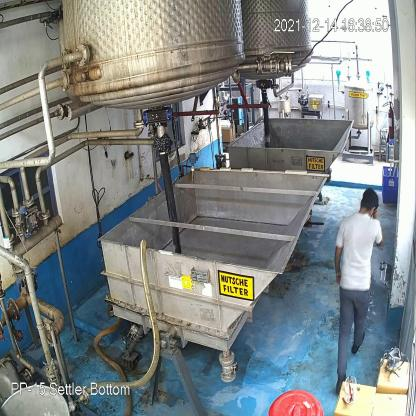no_glove: (329, 238, 344, 285)
shoes: (351, 332, 369, 355)
